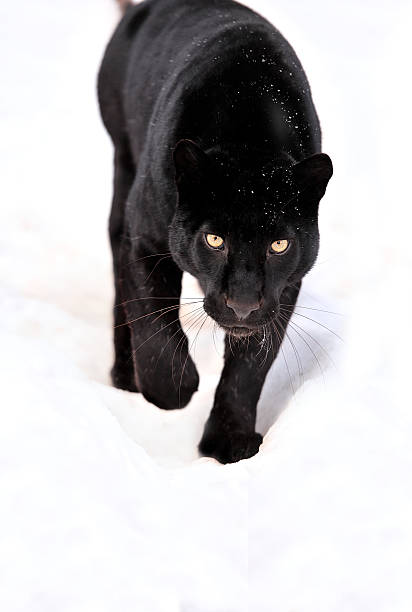panther: (158, 126, 344, 365)
